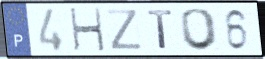4: (37, 6, 66, 53)
6: (223, 7, 250, 51)
H: (68, 6, 108, 53)
O: (179, 7, 221, 52)
T: (146, 9, 175, 51)
Z: (105, 8, 146, 52)
